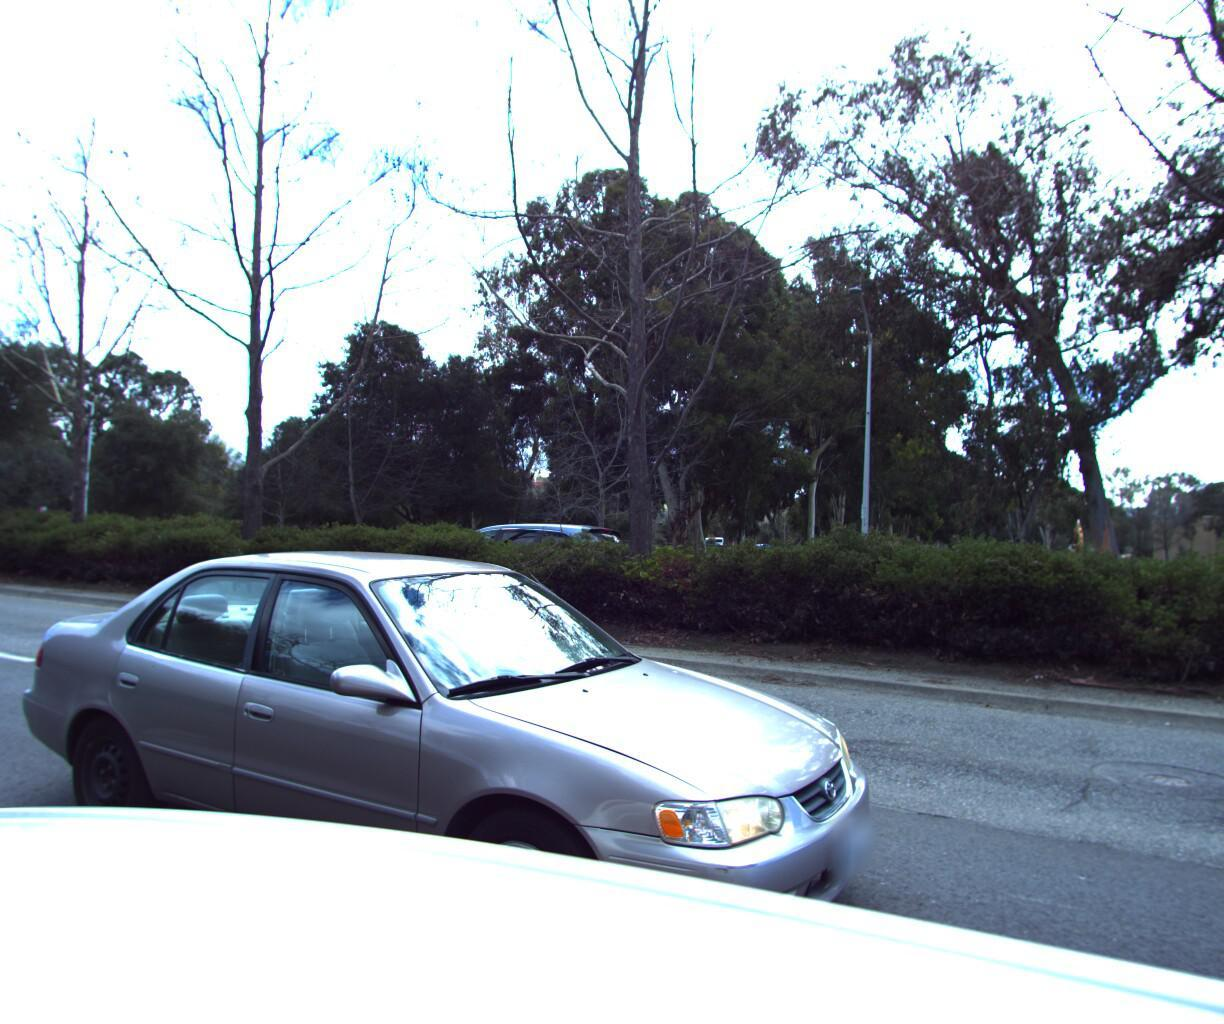car: (0, 522, 931, 1024), (430, 525, 663, 621)
